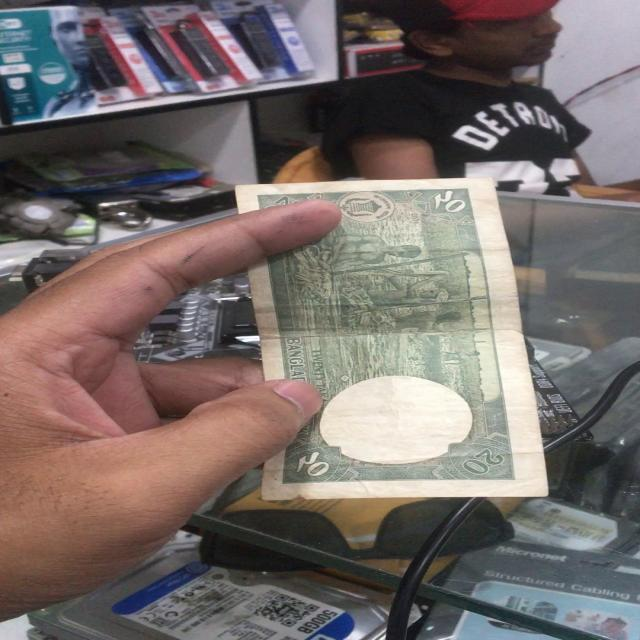Taka: (244, 189, 538, 496)
